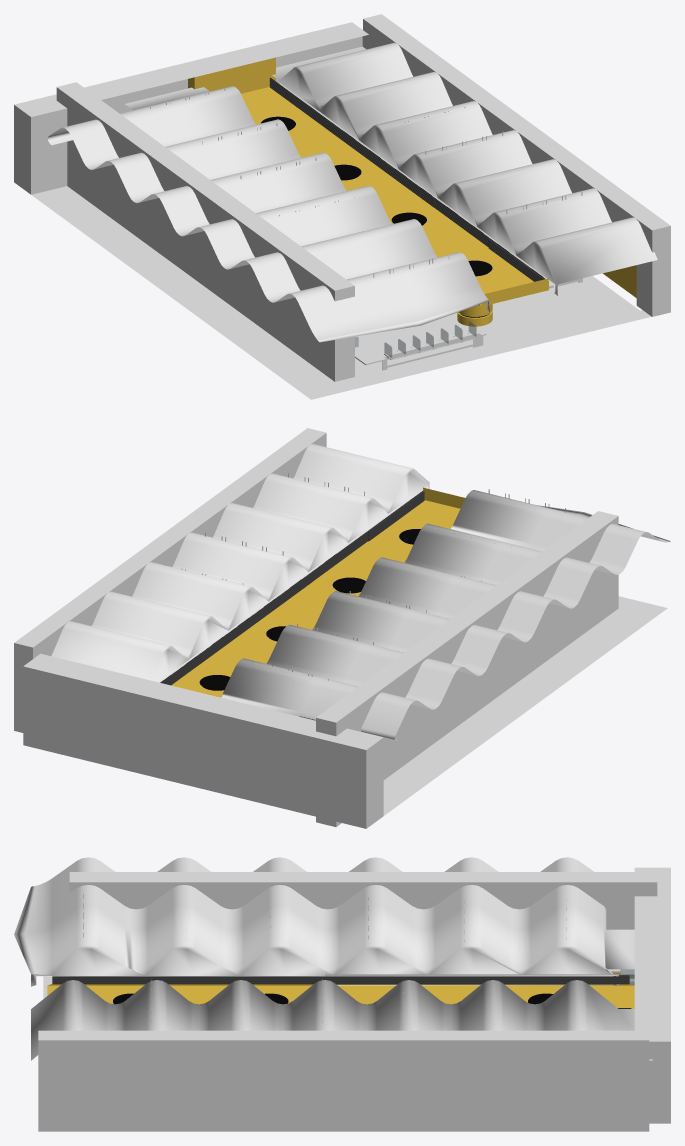
File: cse_lab.glb
The picture shows the model from 3 angles, top to bottom: view 1: azimuth 30°, elevation 25°; view 2: azimuth 150°, elevation 25°; view 3: azimuth 270°, elevation 25°; orthographic projection. The views are drawn at different scales.
Visible parts, largest first — view 1: ROOFTOP, wall, Plane.002, WALL, Plane.003, II, PILLER, Cube.002, Plane.004; view 2: ROOFTOP, wall, Plane.002, WALL, Plane.003, II, PILLER; view 3: ROOFTOP, WALL, Plane.002, wall, Plane.003, AC2, II, PILLER.
Boxes of the visible parts, left/top/right/bottom form: ROOFTOP: left=47, top=42, right=657, bottom=342; wall: left=14, top=22, right=651, bottom=399; Plane.002: left=56, top=82, right=354, bottom=381; WALL: left=363, top=14, right=670, bottom=316; Plane.003: left=241, top=87, right=533, bottom=306; II: left=269, top=78, right=544, bottom=281; PILLER: left=261, top=116, right=492, bottom=326; Cube.002: left=355, top=328, right=486, bottom=370; Plane.004: left=481, top=278, right=548, bottom=306; ROOFTOP: left=51, top=444, right=670, bottom=740; wall: left=23, top=534, right=667, bottom=828; Plane.002: left=316, top=511, right=618, bottom=826; WALL: left=14, top=428, right=326, bottom=732; Plane.003: left=171, top=500, right=460, bottom=697; II: left=160, top=491, right=424, bottom=685; PILLER: left=199, top=529, right=420, bottom=690; ROOFTOP: left=14, top=857, right=652, bottom=1060; WALL: left=38, top=1030, right=649, bottom=1131; Plane.002: left=69, top=872, right=657, bottom=977; wall: left=43, top=867, right=670, bottom=1123; Plane.003: left=47, top=984, right=634, bottom=1008; AC2: left=341, top=975, right=629, bottom=984; II: left=52, top=976, right=631, bottom=1008; PILLER: left=113, top=993, right=552, bottom=1004.
Size of the model in its own units: 24.08 by 6.77 by 36.29.
